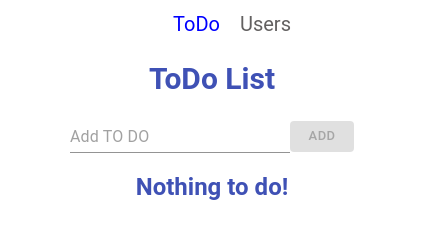
Test: Test todo app › should enter into the input field
The width and height of the screenshot is (424, 247).
Expected: the heading "Nothing to do!" is shown, [136, 173, 288, 201]
Type "This is the task for cypress" into the field with id "task-input-field" at (180,137), box [70, 121, 290, 153]
Then press Enter
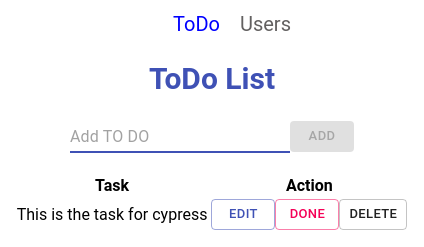
Result: the text "This is the task for cypress" is shown at [17, 205, 208, 224]
